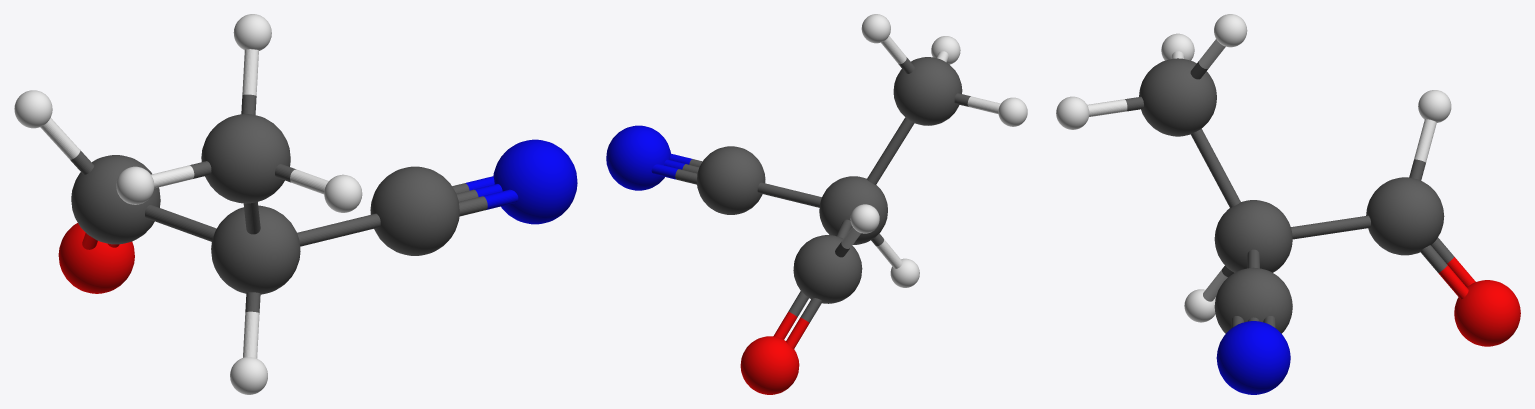
The model's file is R-2-methyl-3-oxopropanenitrile.fbx.
3 renders of one model, left to right at view 1: azimuth 30°, elevation 25°; view 2: azimuth 150°, elevation 25°; view 3: azimuth 270°, elevation 25°, orthographic. The views are drawn at different scales.
Parts seen in each view (by area): view 1: C10, C01, C05, N11, C07, O08, C10#N11.001, C05-C10, H04, H09, H02, H06 (+7 smaller); view 2: C10, C01, C07, N11, O08, C05, C07=O08, C10#N11.001, C01-C05, C05-C10, H09, H04 (+6 smaller); view 3: C07, C01, C05, N11, C10, O08, C07=O08, C01-C05, C05-C07, H02, H03, H09 (+6 smaller).
Part boxes in pixels (x1,y1,x2,y2): C10: [370, 166, 459, 255]; C01: [201, 114, 290, 203]; C05: [211, 205, 300, 294]; N11: [493, 139, 577, 224]; C07: [71, 155, 160, 244]; O08: [58, 223, 134, 293]; C10#N11.001: [452, 176, 518, 216]; C05-C10: [297, 213, 380, 246]; H04: [116, 166, 154, 204]; H09: [14, 90, 52, 128]; H02: [324, 174, 362, 212]; H06: [230, 357, 267, 394]; C10: [696, 146, 765, 214]; C01: [893, 57, 962, 125]; C07: [793, 235, 862, 303]; N11: [606, 125, 670, 190]; O08: [740, 336, 799, 394]; C05: [819, 176, 887, 244]; C07=O08: [773, 291, 822, 349]; C10#N11.001: [651, 153, 702, 184]; C01-C05: [867, 117, 914, 184]; C05-C10: [757, 182, 821, 207]; H09: [850, 204, 879, 233]; H04: [998, 97, 1027, 126]; C07: [1366, 177, 1444, 255]; C01: [1139, 58, 1216, 136]; C05: [1214, 200, 1292, 272]; N11: [1216, 321, 1290, 394]; C10: [1214, 267, 1292, 333]; O08: [1454, 280, 1520, 346]; C07=O08: [1420, 237, 1475, 299]; C01-C05: [1191, 128, 1240, 207]; C05-C07: [1291, 215, 1370, 239]; H02: [1056, 96, 1089, 129]; H03: [1214, 14, 1247, 47]; H09: [1418, 90, 1451, 122].
Size of the model in its own units: 480 by 351 by 446.
